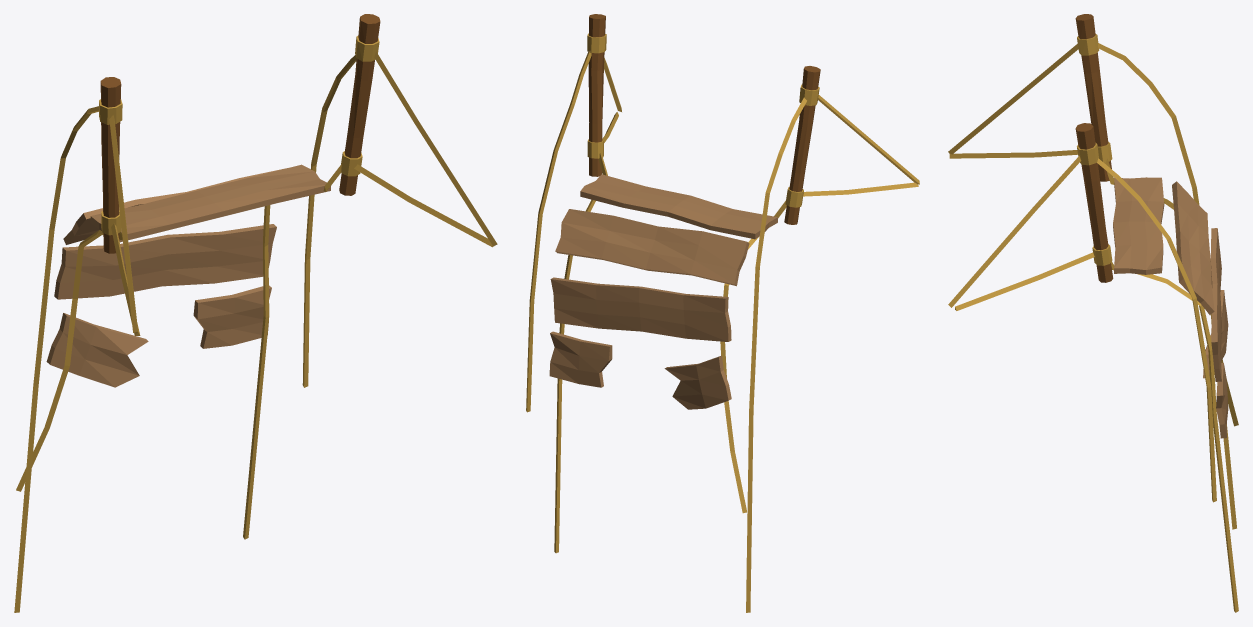
File: RopeBridge01.FBX
3 renders of one model, left to right at view 1: azimuth 30°, elevation 25°; view 2: azimuth 150°, elevation 25°; view 3: azimuth 270°, elevation 25°, orthographic. The views are drawn at different scales.
Visible parts, largest first — view 1: RopeBridge_Planks (×5), RopeBridgeRoops (×4), RopeBridge_Poles (×2); view 2: RopeBridge_Planks (×5), RopeBridgeRoops (×4), RopeBridge_Poles (×2); view 3: RopeBridge_Planks (×5), RopeBridgeRoops (×4), RopeBridge_Poles (×2).
Part boxes in pixels (x1,y1,x2,y2): RopeBridge_Planks (×5): (46, 164, 330, 387); RopeBridgeRoops (×4): (14, 51, 497, 612); RopeBridge_Poles (×2): (99, 14, 380, 253); RopeBridge_Planks (×5): (549, 174, 777, 409); RopeBridgeRoops (×4): (526, 50, 919, 612); RopeBridge_Poles (×2): (587, 14, 820, 224); RopeBridge_Planks (×5): (1113, 177, 1228, 438); RopeBridgeRoops (×4): (948, 43, 1238, 612); RopeBridge_Poles (×2): (1075, 14, 1113, 282).
Bounding box in the file's own units: 3.19 × 4.94 × 2.52.
Materials: 1 (1 with a texture image).
